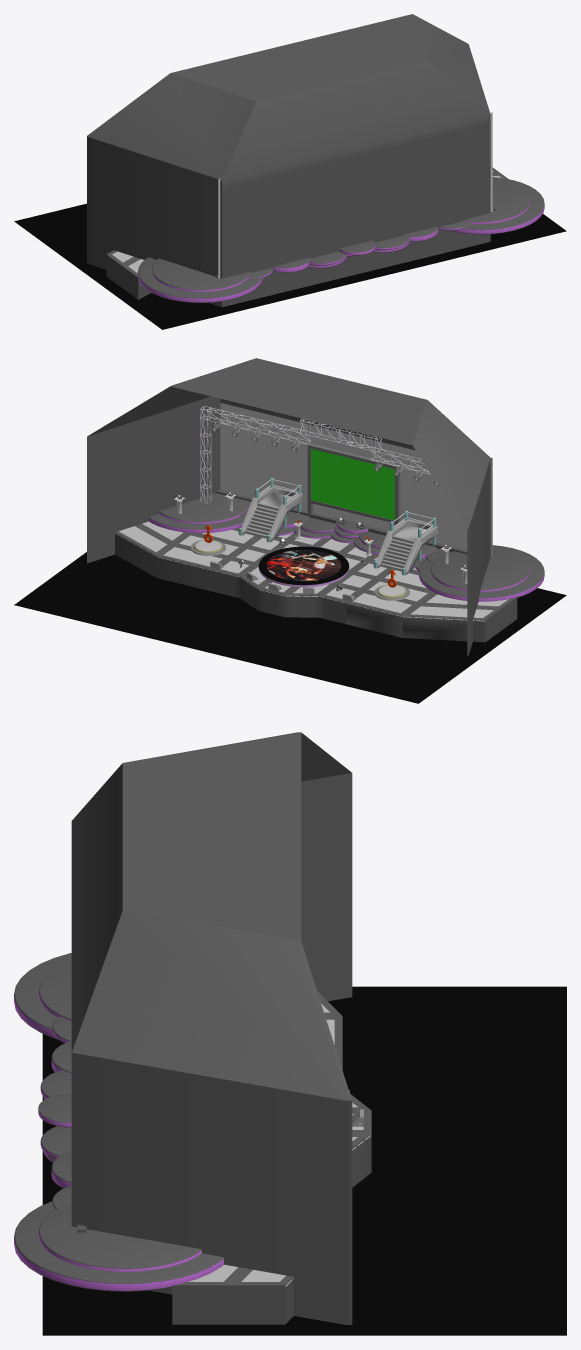
File: Panggung-nirvana.fbx
The picture shows the model from 3 angles, top to bottom: view 1: azimuth 30°, elevation 25°; view 2: azimuth 150°, elevation 25°; view 3: azimuth 270°, elevation 25°; orthographic projection. The views are drawn at different scales.
Visible parts, largest first — view 1: panggung, lantai, Cylinder.7, Cylinder.6, Cylinder.5_1, Cylinder_1, Plane; view 2: panggung, lantai, Plane, Layar_Utama, Cylinder.6, palang_putih, Cylinder.7, utama, Cube.1_3, Cube.2, pangung_kecil, Cylinder.5_1; view 3: panggung, lantai, Cylinder.7, Cylinder.6, Cylinder.5_1, Cylinder_1, Cylinder.3_2, Cylinder.2_1.
Part boxes in pixels (left/top/right/bottom): panggung: left=87, top=14, right=508, bottom=307; lantai: left=14, top=203, right=566, bottom=329; Cylinder.7: left=137, top=177, right=544, bottom=302; Cylinder.6: left=152, top=180, right=529, bottom=291; Cylinder.5_1: left=309, top=236, right=409, bottom=265; Cylinder_1: left=274, top=226, right=438, bottom=272; Plane: left=218, top=112, right=492, bottom=278; panggung: left=87, top=358, right=517, bottom=655; lantai: left=14, top=552, right=566, bottom=703; Plane: left=220, top=403, right=492, bottom=557; Layar_Utama: left=311, top=449, right=394, bottom=520; Cylinder.6: left=159, top=493, right=529, bottom=591; palang_putih: left=200, top=406, right=431, bottom=503; Cylinder.7: left=148, top=514, right=544, bottom=601; utama: left=258, top=546, right=349, bottom=587; Cube.1_3: left=238, top=486, right=437, bottom=574; Cube.2: left=307, top=443, right=400, bottom=525; pangung_kecil: left=190, top=539, right=409, bottom=600; Cylinder.5_1: left=300, top=517, right=385, bottom=548; panggung: left=71, top=732, right=371, bottom=1324; lantai: left=42, top=986, right=566, bottom=1335; Cylinder.7: left=14, top=953, right=223, bottom=1291; Cylinder.6: left=38, top=962, right=201, bottom=1271; Cylinder.5_1: left=40, top=1070, right=71, bottom=1158; Cylinder_1: left=51, top=1041, right=71, bottom=1188; Cylinder.3_2: left=38, top=1093, right=71, bottom=1127; Cylinder.2_1: left=52, top=1016, right=71, bottom=1209.
Size of the model in its own units: 1446 by 627 by 968.
Materials: 23 (2 with a texture image).
